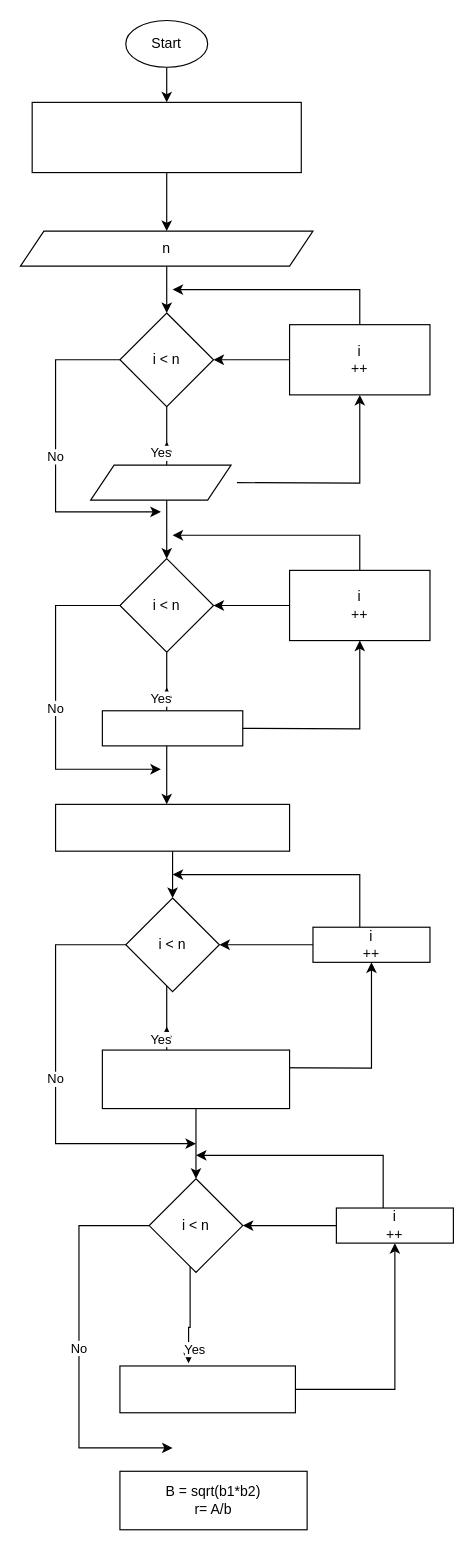
The diagram is 474 pixels wide and 1560 high, and some of its shapes have lost their labels. Here are the shapes that lost their labels. From the top down, the centre of each, then its label:
the point at 166,137: x[] ,y[],n ,sum,a,b,c,r
the point at 160,482: x[i],y[i]
the point at 172,728: Xsum+=sum+x[i] Ysum+=sum+y[i]
the point at 172,827: Xavg = Xsum/n Yavg = Ysum/n
the point at 195,1079: A = (x[i]-Xavg) * (y[i]-Yavg) aSum += A
the point at 207,1389: b1 += sqr(x[i]-Xavg) b2 +=sqr(y[i]-Yavg)
